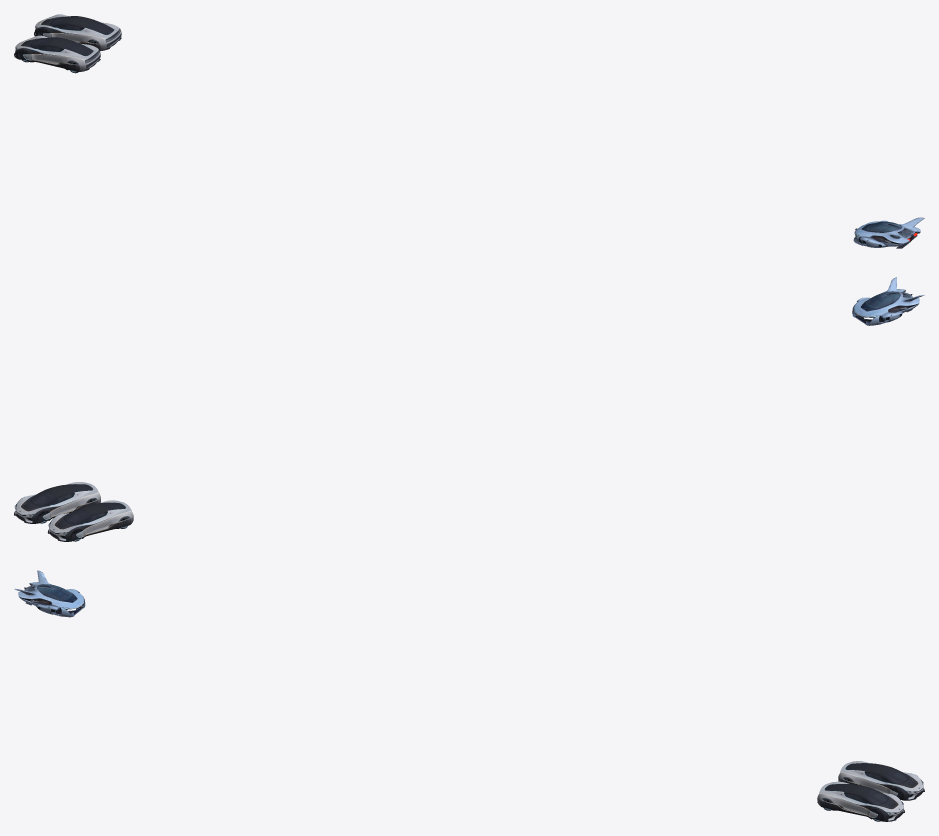
Rendered from cars.glb.
The picture shows the model from 3 angles, top to bottom: view 1: azimuth 90°, elevation 25°; view 2: azimuth 150°, elevation 25°; view 3: azimuth 270°, elevation 25°; orthographic projection.
Visible parts, largest first — view 1: carA (×2), carB; view 2: carA (×2), carB; view 3: carA (×2), carB.
Part boxes in pixels (bbox=[...]): carA (×2): bbox=[14, 14, 121, 73]; carB: bbox=[853, 217, 924, 248]; carA (×2): bbox=[14, 482, 133, 541]; carB: bbox=[852, 277, 924, 325]; carA (×2): bbox=[817, 761, 924, 821]; carB: bbox=[14, 570, 85, 617].
Bounding box in the file's own units: 250 × 10.81 × 415.
Materials: 4 (2 with a texture image).
